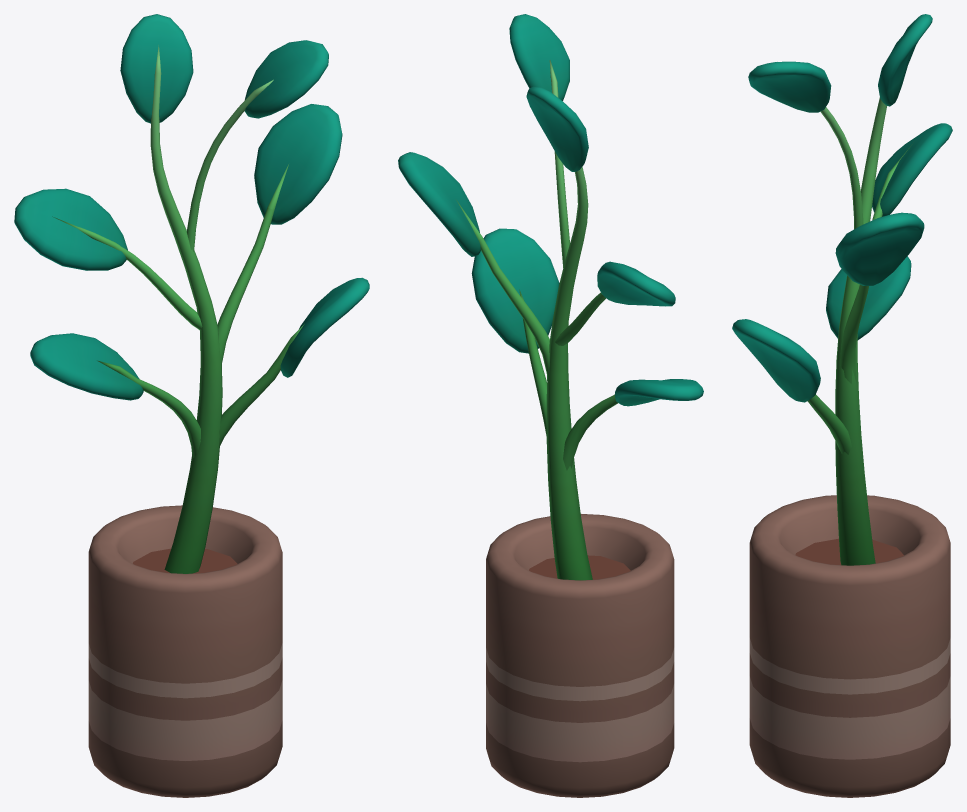
File: Plants_15.glb
The picture shows the model from 3 angles, left to right: view 1: azimuth 30°, elevation 25°; view 2: azimuth 150°, elevation 25°; view 3: azimuth 270°, elevation 25°; orthographic projection. The views are drawn at different scales.
Parts seen in each view (by area): view 1: Plants_15; view 2: Plants_15; view 3: Plants_15.
Boxes of the visible parts, left/top/right/bottom form: Plants_15: left=14, top=14, right=369, bottom=797; Plants_15: left=398, top=14, right=703, bottom=797; Plants_15: left=732, top=14, right=952, bottom=797.
Bounding box in the file's own units: 0.5144 × 1.16 × 0.3109.
1 material, 1 textured.
